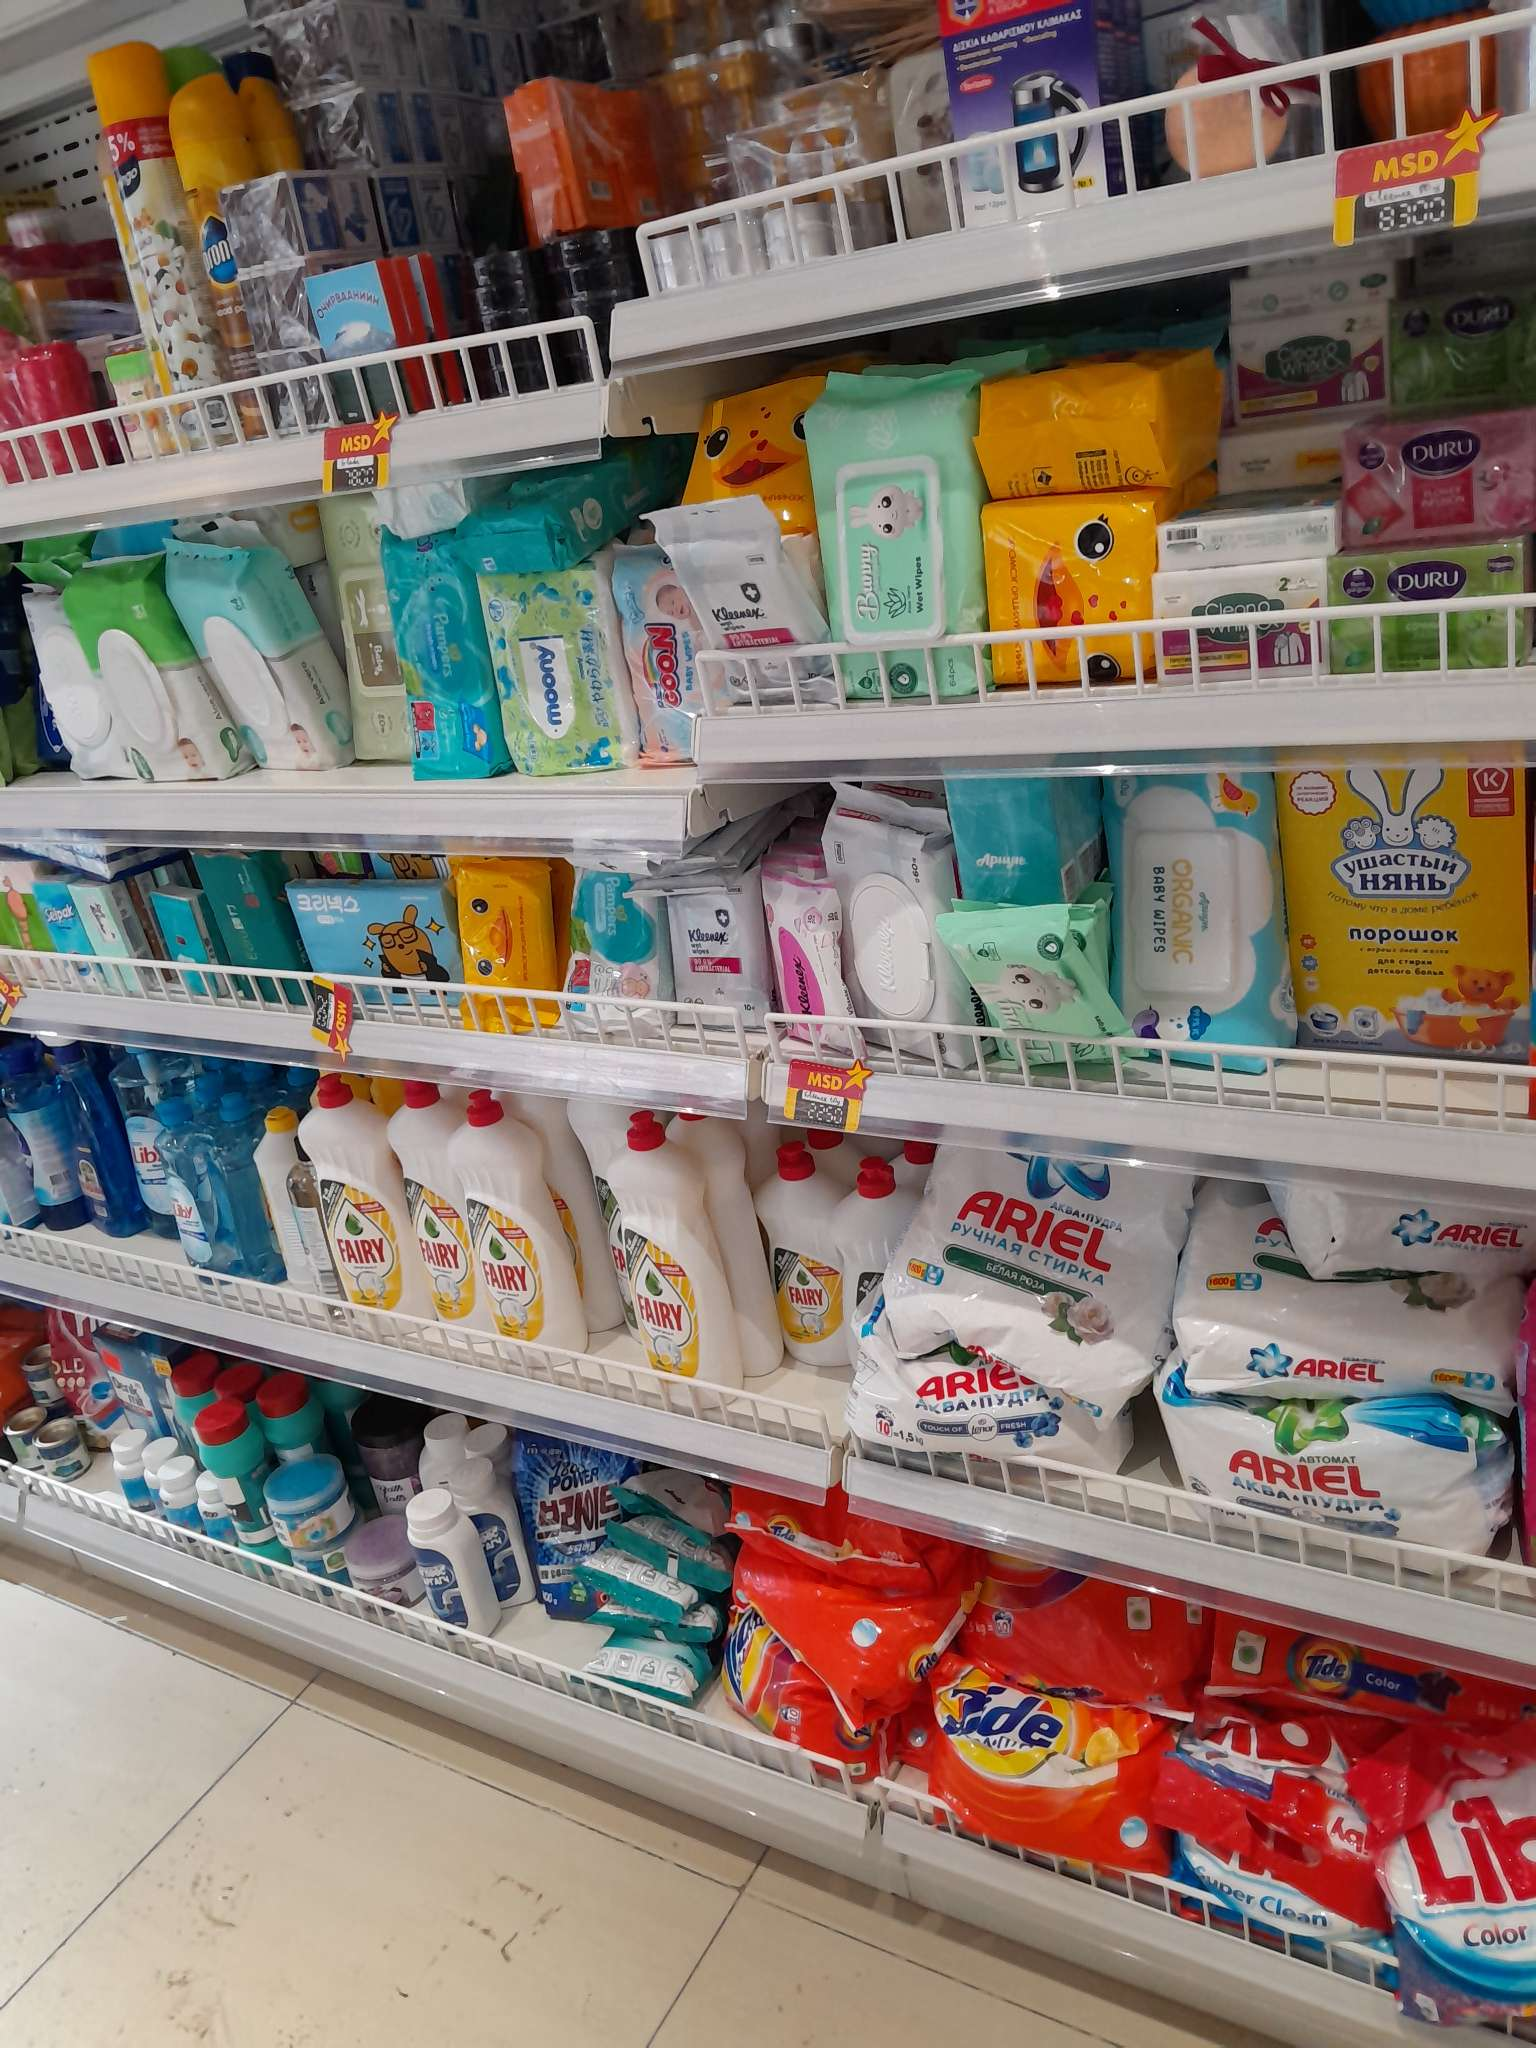ariel: (1162, 1374, 1502, 1543), (1196, 1227, 1501, 1406), (921, 1147, 1162, 1369), (857, 1342, 1147, 1485)
ariun: (1102, 777, 1284, 1061), (965, 373, 1150, 639), (319, 502, 394, 751), (455, 871, 553, 1011), (702, 395, 800, 493), (155, 880, 211, 995)
bunny: (808, 392, 966, 674), (979, 910, 1107, 1061)
clean&white: (1150, 535, 1321, 658), (1223, 302, 1392, 410)
duru: (1339, 424, 1536, 526), (1338, 558, 1530, 648)
fairy: (599, 1122, 721, 1405), (294, 1089, 395, 1324), (460, 1108, 553, 1359), (384, 1090, 465, 1322), (753, 1158, 845, 1350)
goony: (615, 548, 682, 756)
huggies: (171, 543, 329, 756), (73, 576, 197, 785)
kleenex tissue: (284, 895, 457, 985)
kleenex wipes: (828, 810, 963, 1051), (681, 521, 820, 687), (755, 868, 831, 1035), (665, 900, 747, 1022)
liby: (1196, 1645, 1533, 1954), (121, 1050, 242, 1274)
moony: (497, 564, 610, 751)
nurse with ears: (1279, 780, 1536, 1063)
pampers: (400, 542, 490, 771)
tide: (913, 1621, 1152, 1859), (712, 1511, 912, 1751)
tod: (2, 1037, 82, 1224)
